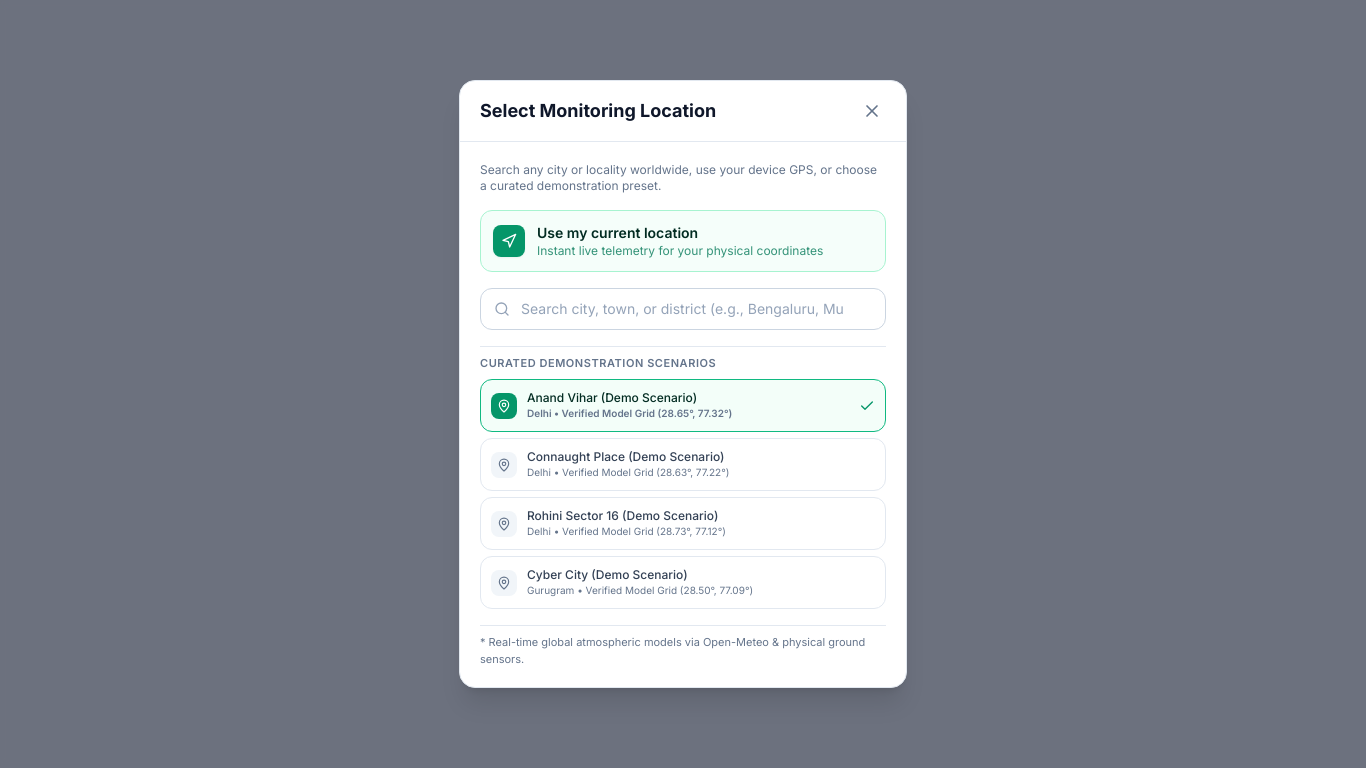
Test: Phase 7.1 — Live Location System › 1. Location Search › 1.6 rejects invalid or out-of-range coordinates from search results
Step 1. Replace the text in the field with test id "location-search-input" with "Invalid Lat" → (683, 309), box [480,288,886,330]
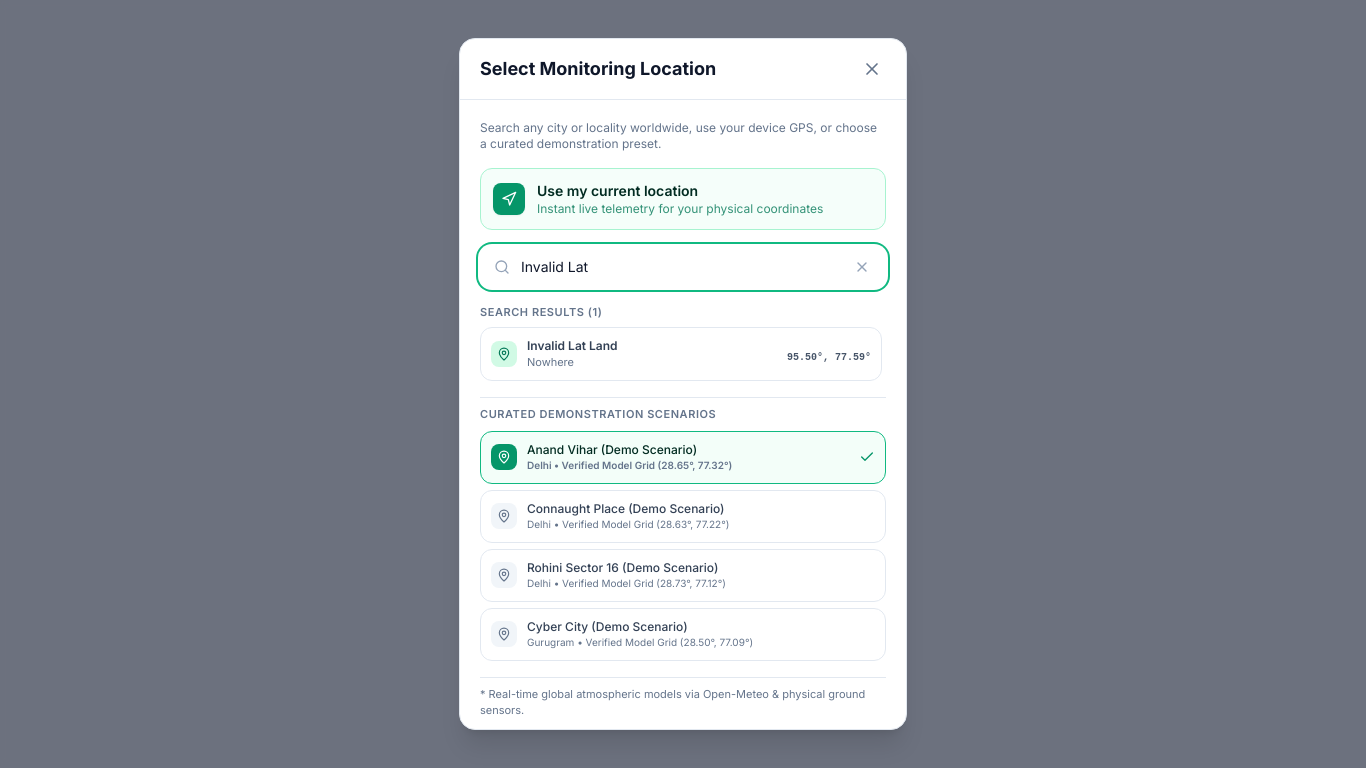
Step 2. Click the button with test id "location-search-item" → (572, 345), box [480,327,882,381]
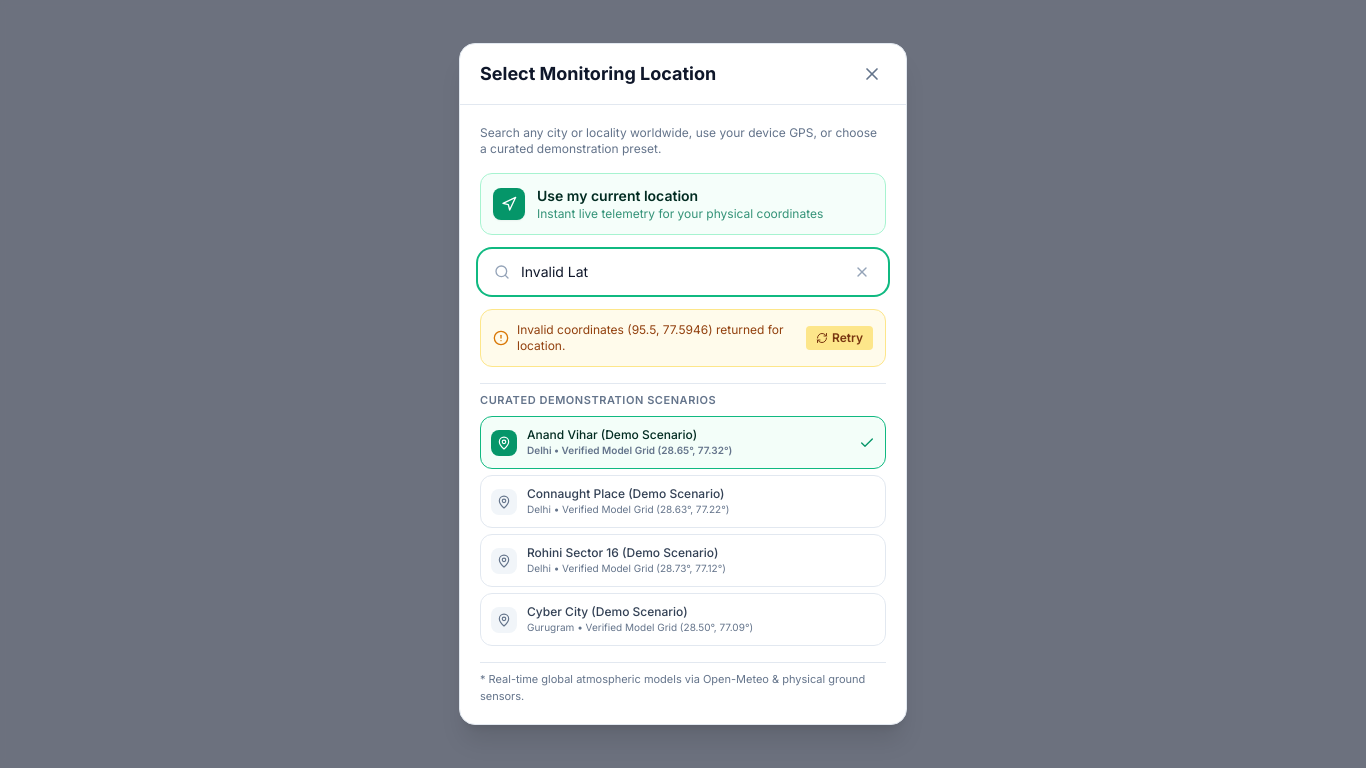
Expected: the message "Invalid coordinates (95.5, 77.5946) returned for location. Retry" is shown, [480,309,886,367]
Expected: the text "Invalid coordinates (95.5, 77.5946) returned for location." is shown, [517,322,798,354]
